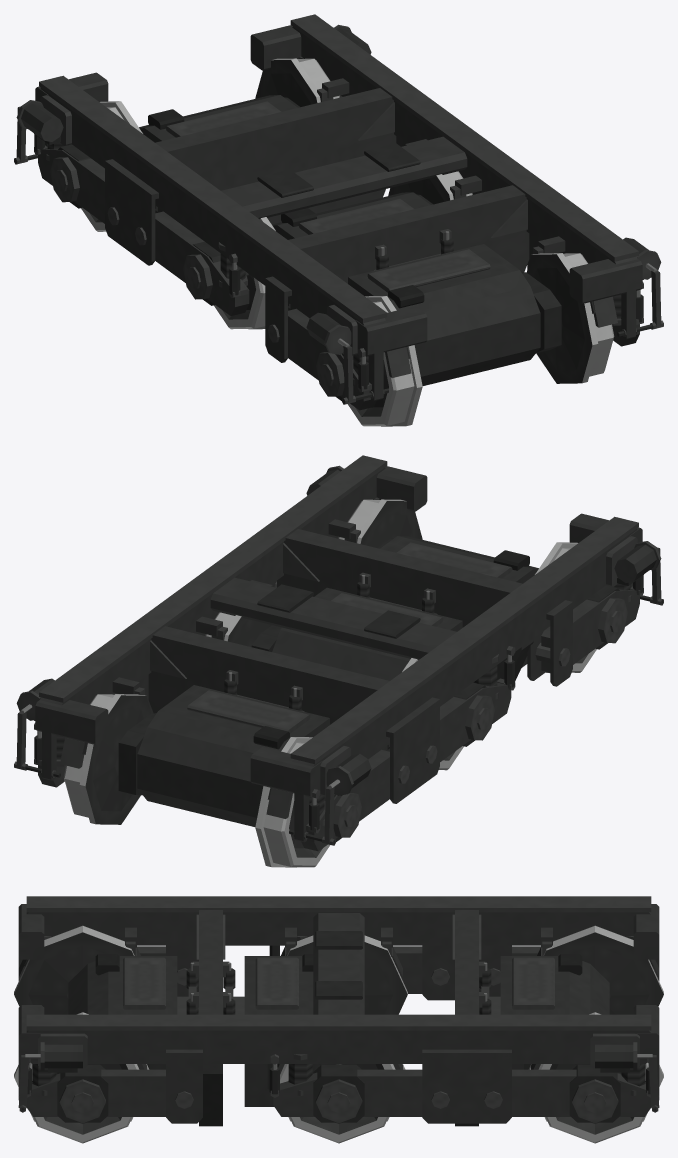
The model's file is bogey_triple_axle_equalized_locomotive_v2_assembled.obj.
The picture shows the model from 3 angles, top to bottom: view 1: azimuth 30°, elevation 25°; view 2: azimuth 150°, elevation 25°; view 3: azimuth 270°, elevation 25°; orthographic projection. The views are drawn at different scales.
Visible parts, largest first — view 1: frame.structure.power_crossmember_-16, frame.traction_motor_3.rectangular_motor_body, frame.structure.power_crossmember_16, frame.side_left.top_flange, frame.side_right.top_flange, frame.side_left.longitudinal_beam, frame.structure.center_bolster, wheelset_rear.octagonal_wheel_1, frame.side_right.longitudinal_beam, frame.side_left.shared_balance_hinge_bracket, frame.equalizers.left_2.balance_arm, wheelset_rear.octagonal_wheel_-1 (+32 smaller); view 2: frame.traction_motor_1.rectangular_motor_body, frame.structure.power_crossmember_-16, frame.structure.power_crossmember_16, frame.side_left.top_flange, frame.side_right.top_flange, frame.side_left.longitudinal_beam, frame.structure.center_bolster, wheelset_front.octagonal_wheel_1, frame.side_right.longitudinal_beam, frame.traction_motor_2.rectangular_motor_body, frame.side_left.shared_balance_hinge_bracket, wheelset_front.octagonal_wheel_-1 (+32 smaller); view 3: frame.side_right.longitudinal_beam, frame.side_left.longitudinal_beam, frame.side_right.top_flange, frame.side_left.top_flange, frame.side_right.shared_balance_hinge_bracket, wheelset_front.octagonal_wheel_-1, wheelset_rear.octagonal_wheel_-1, frame.equalizers.right_2.balance_arm, frame.equalizers.right_1.balance_arm, frame.equalizers.right_3.balance_arm, frame.structure.power_crossmember_16, frame.traction_motor_3.rectangular_motor_body (+37 smaller).
Boxes of the visible parts, x1,y1,x2,y2 form: frame.structure.power_crossmember_-16: [155, 88, 396, 224]; frame.traction_motor_3.rectangular_motor_body: [348, 244, 540, 385]; frame.structure.power_crossmember_16: [288, 185, 529, 310]; frame.side_left.top_flange: [39, 75, 387, 323]; frame.side_right.top_flange: [290, 14, 638, 261]; frame.side_left.longitudinal_beam: [40, 88, 385, 325]; frame.structure.center_bolster: [221, 136, 467, 219]; wheelset_rear.octagonal_wheel_1: [526, 253, 614, 383]; frame.side_right.longitudinal_beam: [292, 26, 637, 264]; frame.side_left.shared_balance_hinge_bracket: [105, 160, 155, 265]; frame.equalizers.left_2.balance_arm: [155, 211, 249, 315]; wheelset_rear.octagonal_wheel_-1: [347, 296, 422, 426]; frame.traction_motor_1.rectangular_motor_body: [137, 685, 329, 826]; frame.structure.power_crossmember_-16: [148, 626, 389, 749]; frame.structure.power_crossmember_16: [277, 529, 533, 681]; frame.side_left.top_flange: [290, 516, 638, 764]; frame.side_right.top_flange: [39, 455, 387, 702]; frame.side_left.longitudinal_beam: [292, 529, 637, 766]; frame.structure.center_bolster: [210, 577, 456, 660]; wheelset_front.octagonal_wheel_1: [63, 694, 151, 824]; frame.side_right.longitudinal_beam: [40, 467, 385, 705]; frame.traction_motor_2.rectangular_motor_body: [272, 587, 462, 680]; frame.side_left.shared_balance_hinge_bracket: [390, 699, 439, 803]; wheelset_front.octagonal_wheel_-1: [255, 737, 330, 867]; frame.side_right.longitudinal_beam: [26, 1030, 651, 1063]; frame.side_left.longitudinal_beam: [26, 912, 651, 945]; frame.side_right.top_flange: [26, 1014, 651, 1030]; frame.side_left.top_flange: [26, 896, 651, 912]; frame.side_right.shared_balance_hinge_bracket: [422, 1051, 511, 1123]; wheelset_front.octagonal_wheel_-1: [543, 925, 663, 1014]; wheelset_rear.octagonal_wheel_-1: [14, 925, 134, 1014]; frame.equalizers.right_2.balance_arm: [273, 1069, 422, 1116]; frame.equalizers.right_1.balance_arm: [512, 1069, 650, 1116]; frame.equalizers.right_3.balance_arm: [27, 1069, 165, 1116]; frame.structure.power_crossmember_16: [199, 910, 222, 1126]; frame.traction_motor_3.rectangular_motor_body: [68, 956, 177, 1069].
Size of the model in its own units: 2.91 by 1.17 by 5.07.
13 materials, 13 textured.
